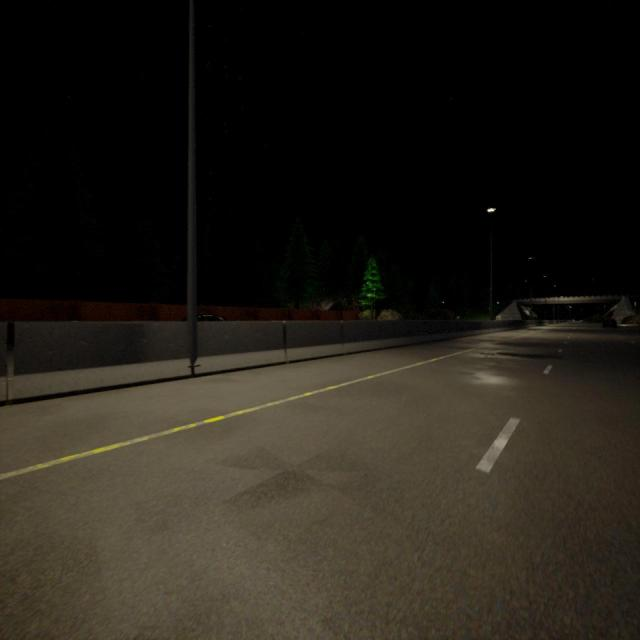Vehicle: (603, 317, 617, 329)
